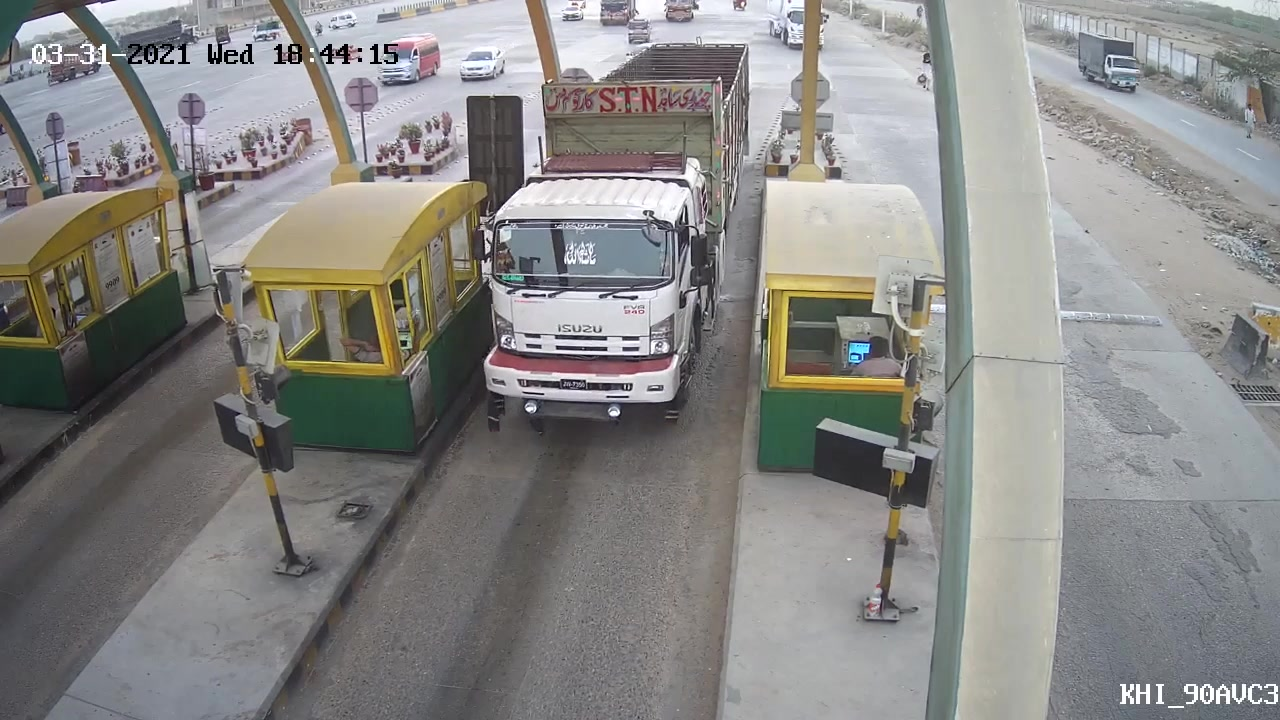F5: (463, 37, 755, 436)
